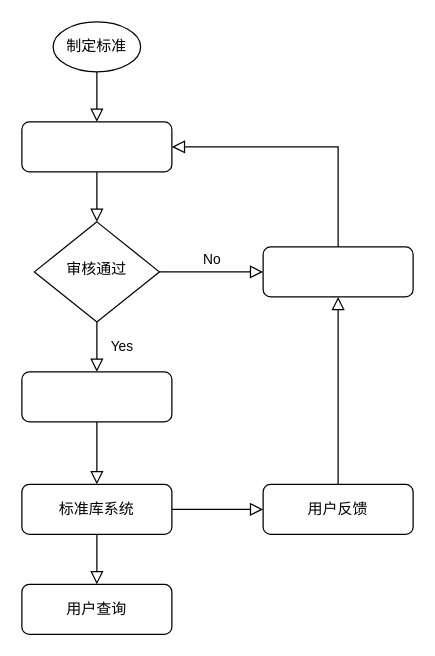
The diagram is 435 pixels wide and 656 high, and some of its shapes have lost their labels. The shapes that lost their labels are listed below. From the top down, each one's centre as x and y in pixels, then its label:
At [96,146]: "上传标准".
At [337,271]: "修订".
At [96,396]: "区块链存证".
